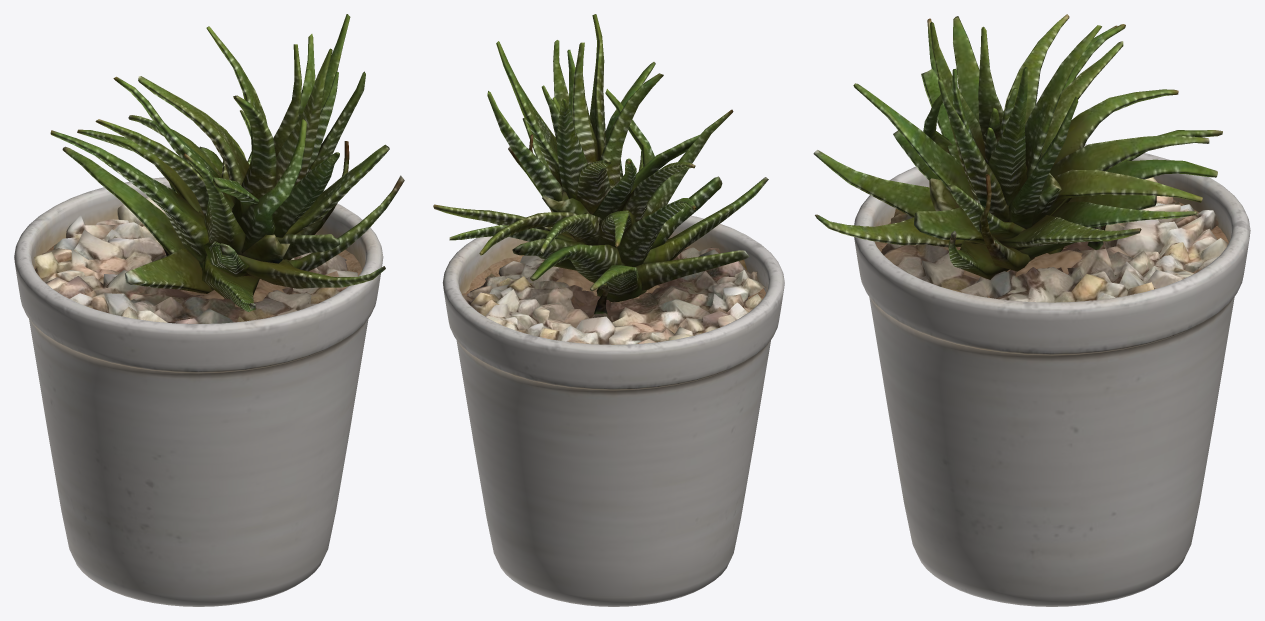
The model's file is plant-aloe.glb.
The picture shows the model from 3 angles, left to right: view 1: azimuth 30°, elevation 25°; view 2: azimuth 150°, elevation 25°; view 3: azimuth 270°, elevation 25°; orthographic projection. The views are drawn at different scales.
Visible parts, largest first — view 1: plant-aloe; view 2: plant-aloe; view 3: plant-aloe.
Boxes of the visible parts, bbox=[...] form: plant-aloe: bbox=[14, 14, 404, 606]; plant-aloe: bbox=[433, 14, 784, 606]; plant-aloe: bbox=[813, 14, 1250, 606].
Bounding box in the file's own units: 0.1679 × 0.2675 × 0.1848.
Materials: 2 (2 with a texture image).
